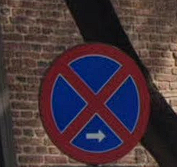oprirea_interzisa: (39, 41, 151, 164)
